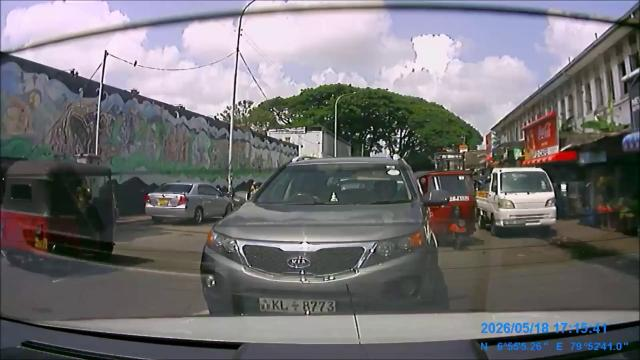number plate: (256, 294, 342, 324)
